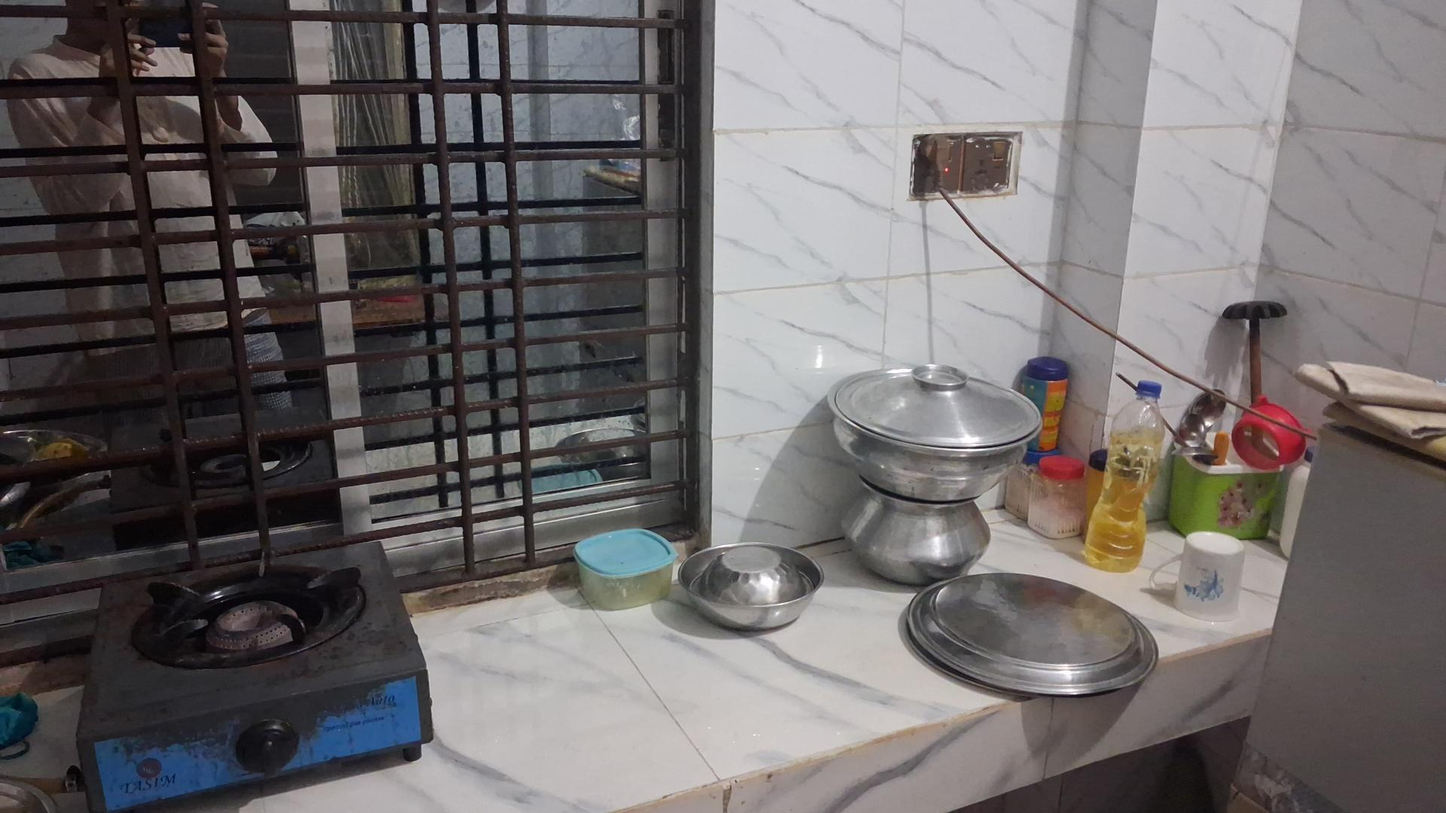Bottle: (1084, 380, 1171, 566)
Bowl: (675, 542, 824, 633)
Cup: (1174, 530, 1245, 624)
Jar: (573, 527, 677, 610), (1030, 458, 1090, 537)
Plate: (897, 573, 1158, 701)
Pot: (821, 364, 1040, 504), (844, 490, 994, 581)
